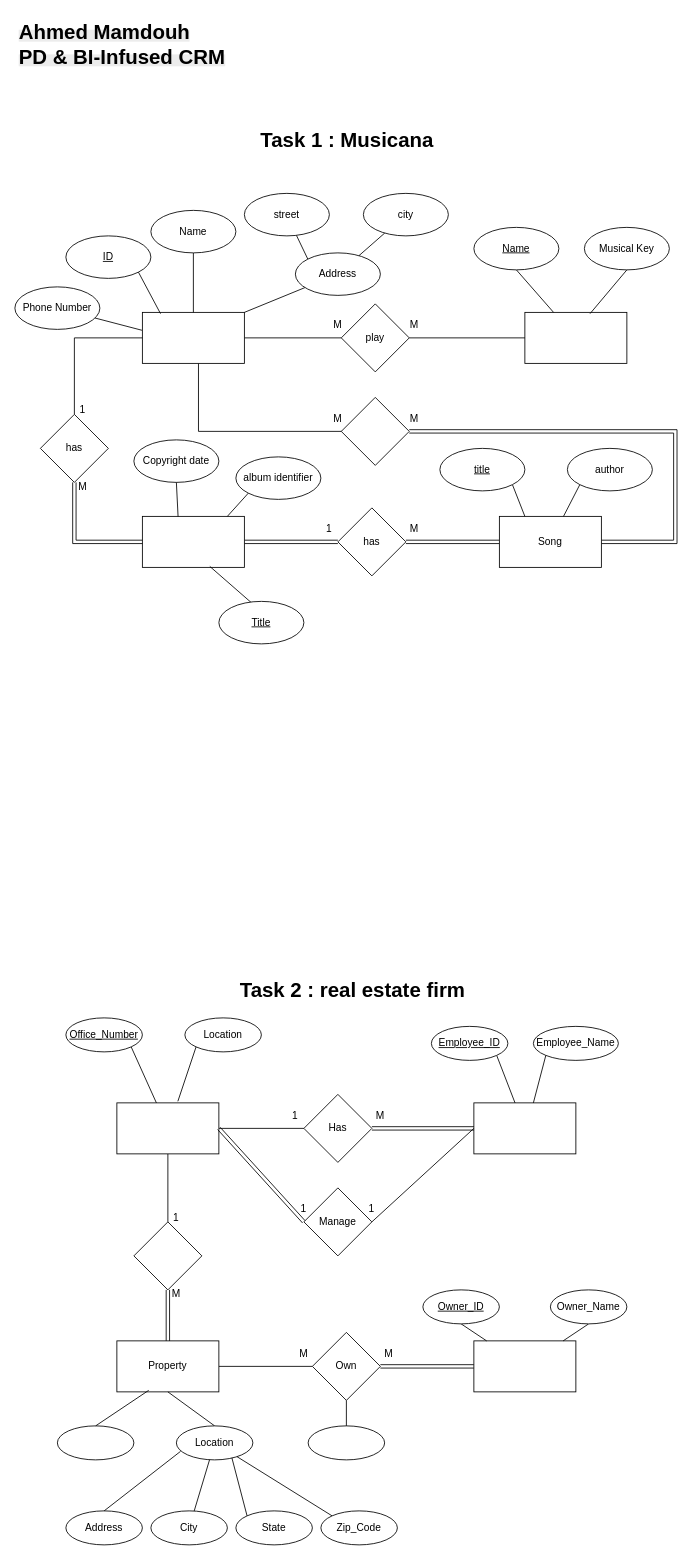
The diagram is 692 pixels wide and 1560 high, and some of its shapes have lost their labels. Each missing label, with the centre of its shape:
"Album" goes at point (193, 541).
"Employee" goes at point (524, 1128).
"Instrument" goes at point (575, 337).
"listed" goes at point (167, 1255).
"Musician" goes at point (193, 337).
"Office" goes at point (167, 1128).
"Owner" goes at point (524, 1366).
"percent_owned" goes at point (346, 1442).
"perform" goes at point (374, 431).
"Property_ID" goes at point (95, 1442).
